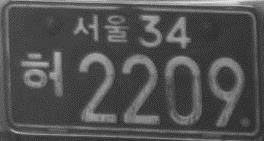0: (163, 54, 202, 126)
2: (78, 51, 119, 124), (122, 53, 161, 128)
3: (136, 12, 163, 49)
4: (164, 14, 193, 50)
9: (206, 54, 246, 129)
서울_O: (72, 12, 130, 44)
허: (19, 49, 65, 97)
